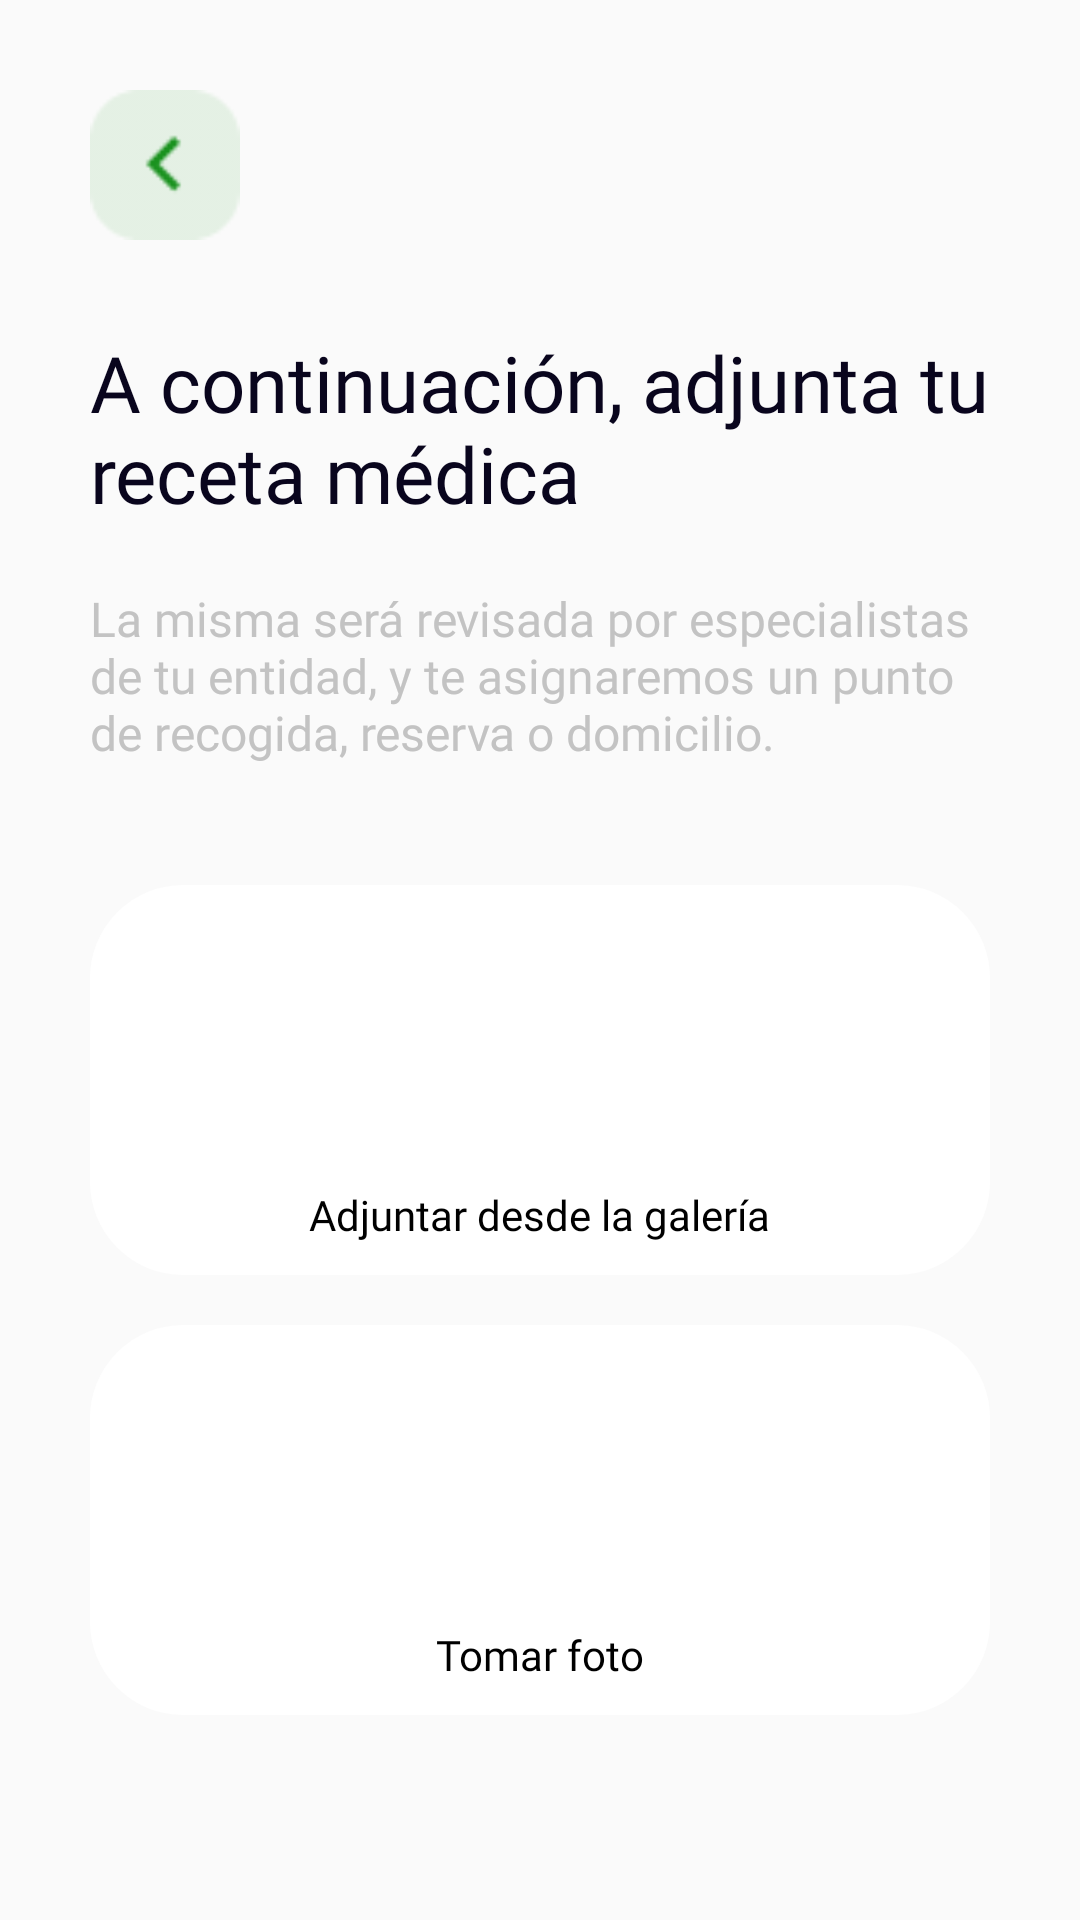

Icons on this 1080px x 1920px Android screen, each with its box as (x1, y1, x2, y2):
iconback: (145, 135, 182, 194)
